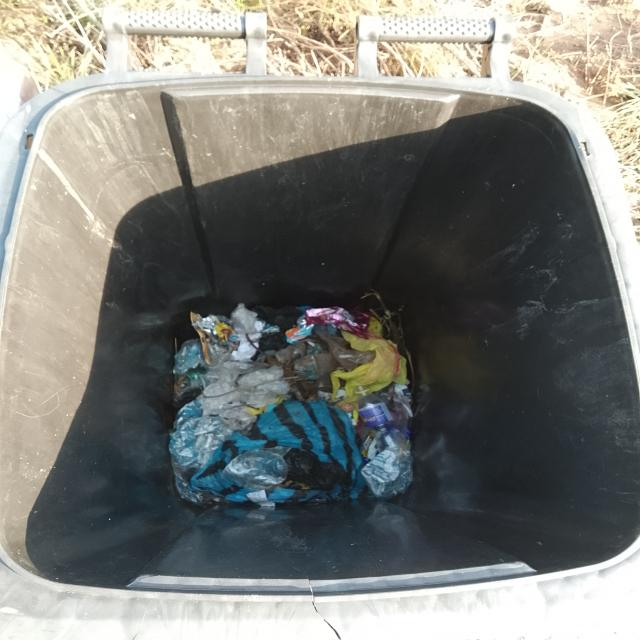half-full: (31, 69, 626, 589)
